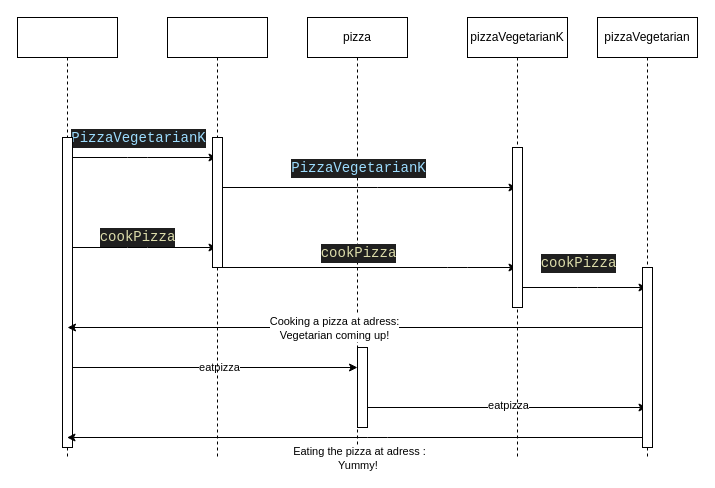
Image size: 715x488. Some labels were removed from this diagram. The shapes that lost their labels are listed below. From the top down, each one's box as (x1, y1, x2, y2) in pixels, then its label:
(16, 16, 118, 458): main
(166, 16, 268, 458): kitchen
